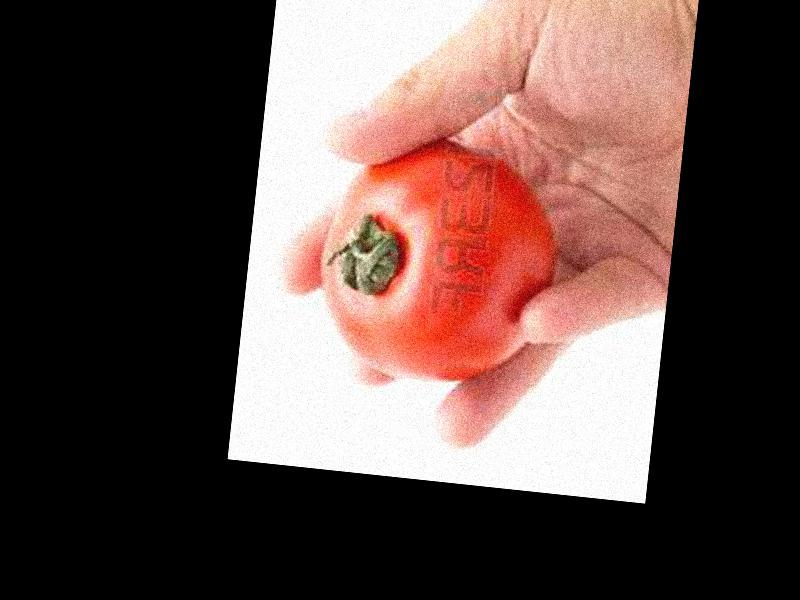Tomato: (310, 131, 565, 393)
